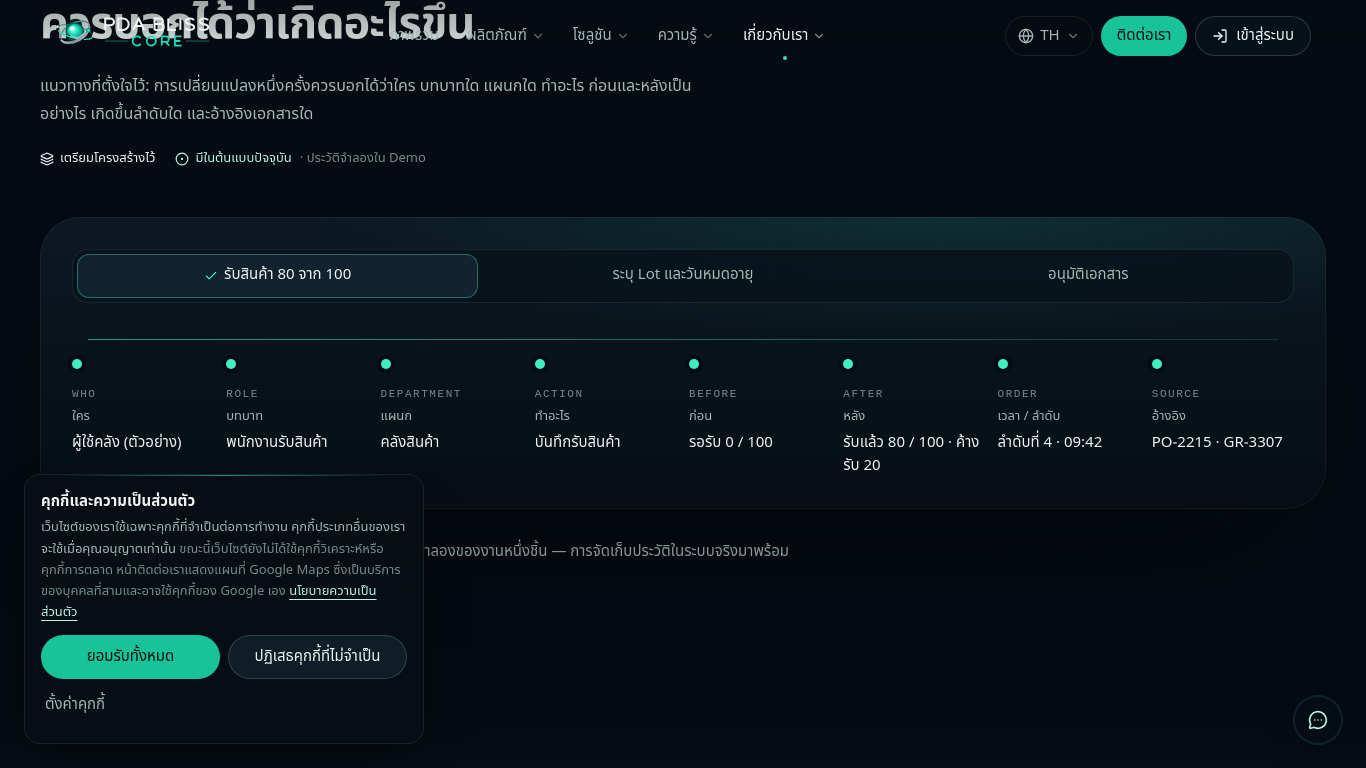
Test: /security page › shows the intended trace for a chosen event
(page scrolled)
Click the radio button labelled "อนุมัติเอกสาร". click: click(1088, 276)
box: [888, 254, 1289, 298]
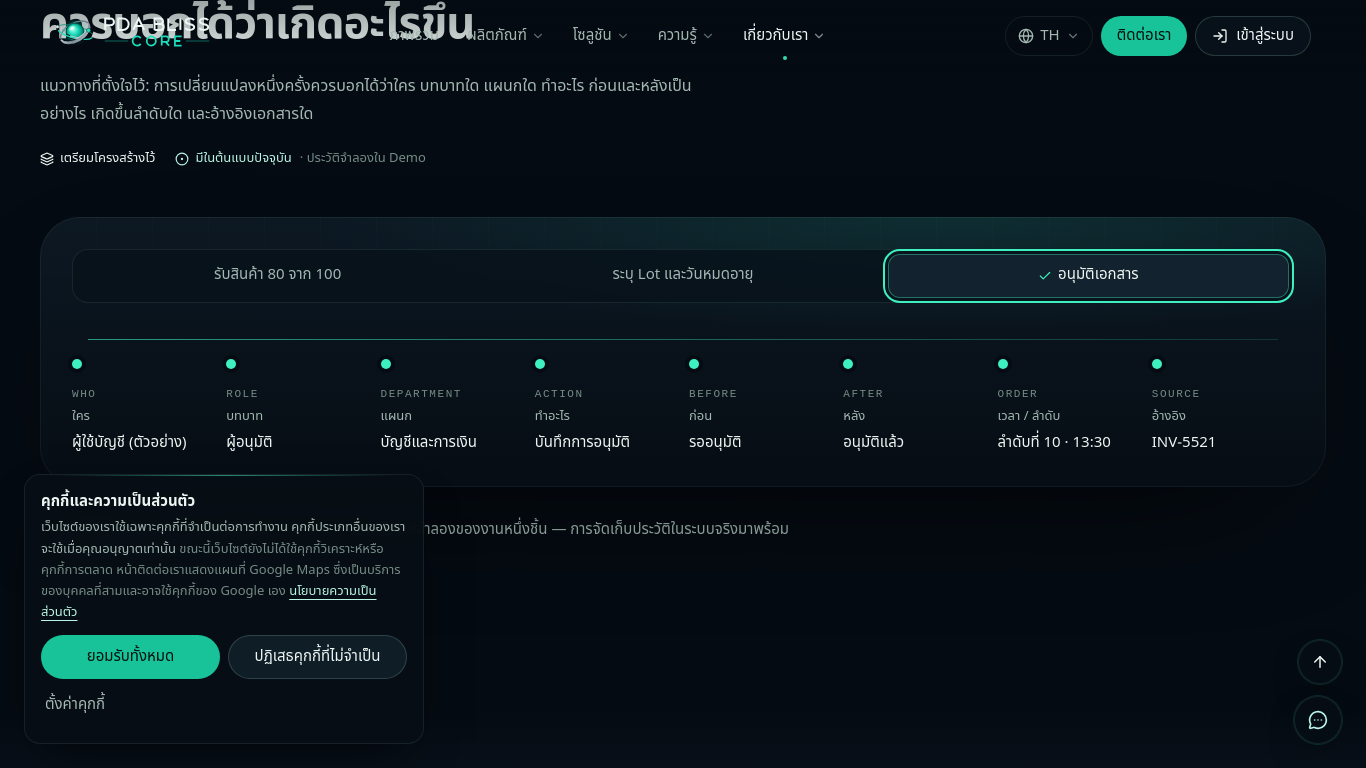
Check: the list item "source อ้างอิง INV-5521" is shown, box [1152, 359, 1216, 454]
Check: the list item "before ก่อน รออนุมัติ" is shown, box [689, 359, 742, 454]
